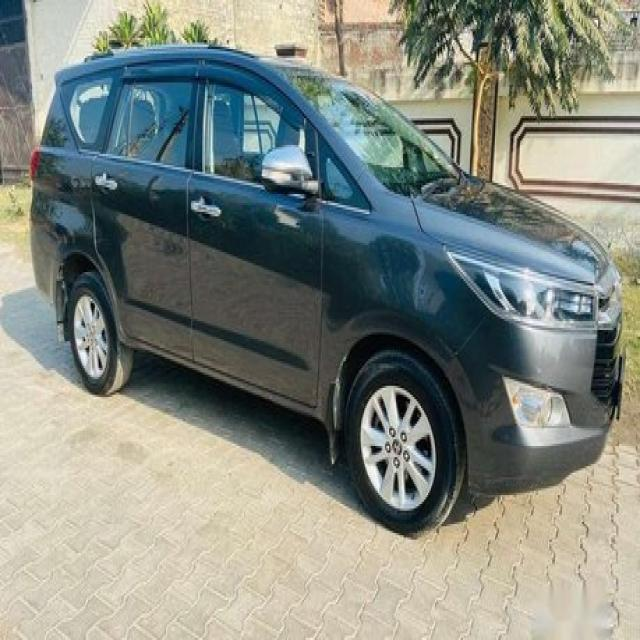light_vehicle: (29, 42, 626, 536)
